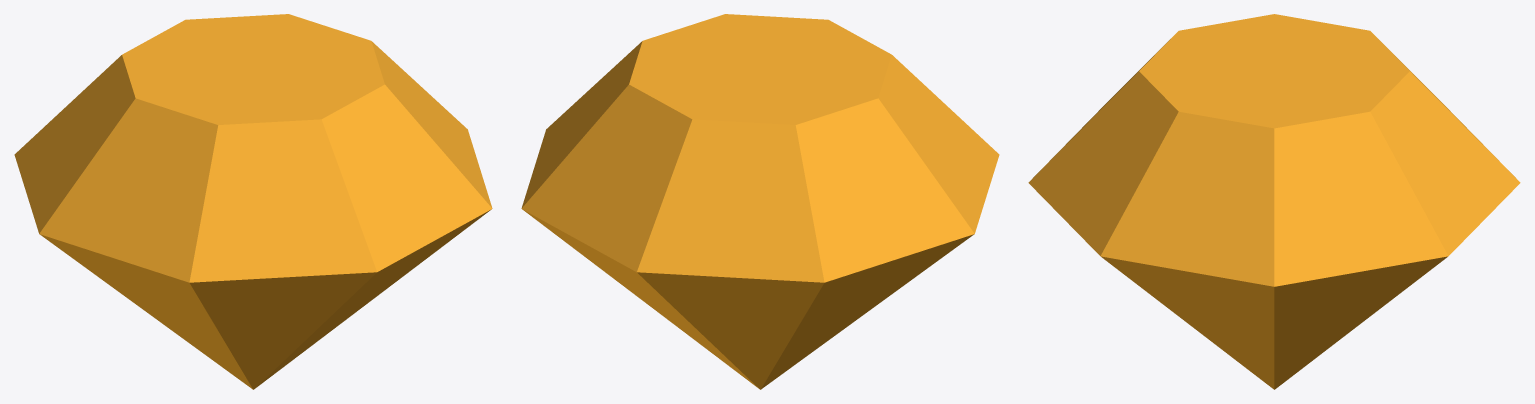
The model's file is YellowGem.fbx.
The picture shows the model from 3 angles, left to right: view 1: azimuth 30°, elevation 25°; view 2: azimuth 150°, elevation 25°; view 3: azimuth 270°, elevation 25°; orthographic projection.
Visible parts, largest first — view 1: YellowGem; view 2: YellowGem; view 3: YellowGem.
Boxes of the visible parts, box(x1,y1,x2,y2) form: YellowGem: box(14, 14, 492, 389); YellowGem: box(521, 14, 999, 389); YellowGem: box(1028, 14, 1520, 389).
Size of the model in its own units: 1.4 by 1 by 1.4.
Materials: 1 (1 with a texture image).
